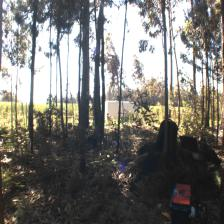trunktrack_idkeyframe: (79, 38, 89, 155), (93, 37, 101, 137), (28, 38, 35, 128), (162, 57, 168, 152), (60, 74, 66, 138), (117, 74, 122, 140)
